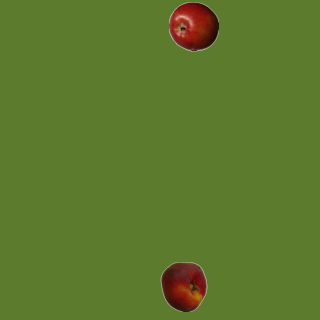Apple Braeburn: (168, 1, 218, 51)
Nectarine Flat: (158, 261, 208, 311)
